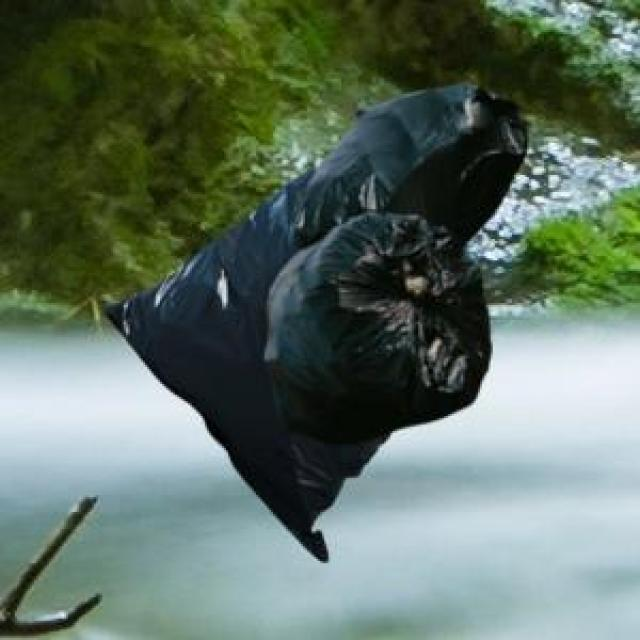Trashbag: (252, 197, 504, 458)
